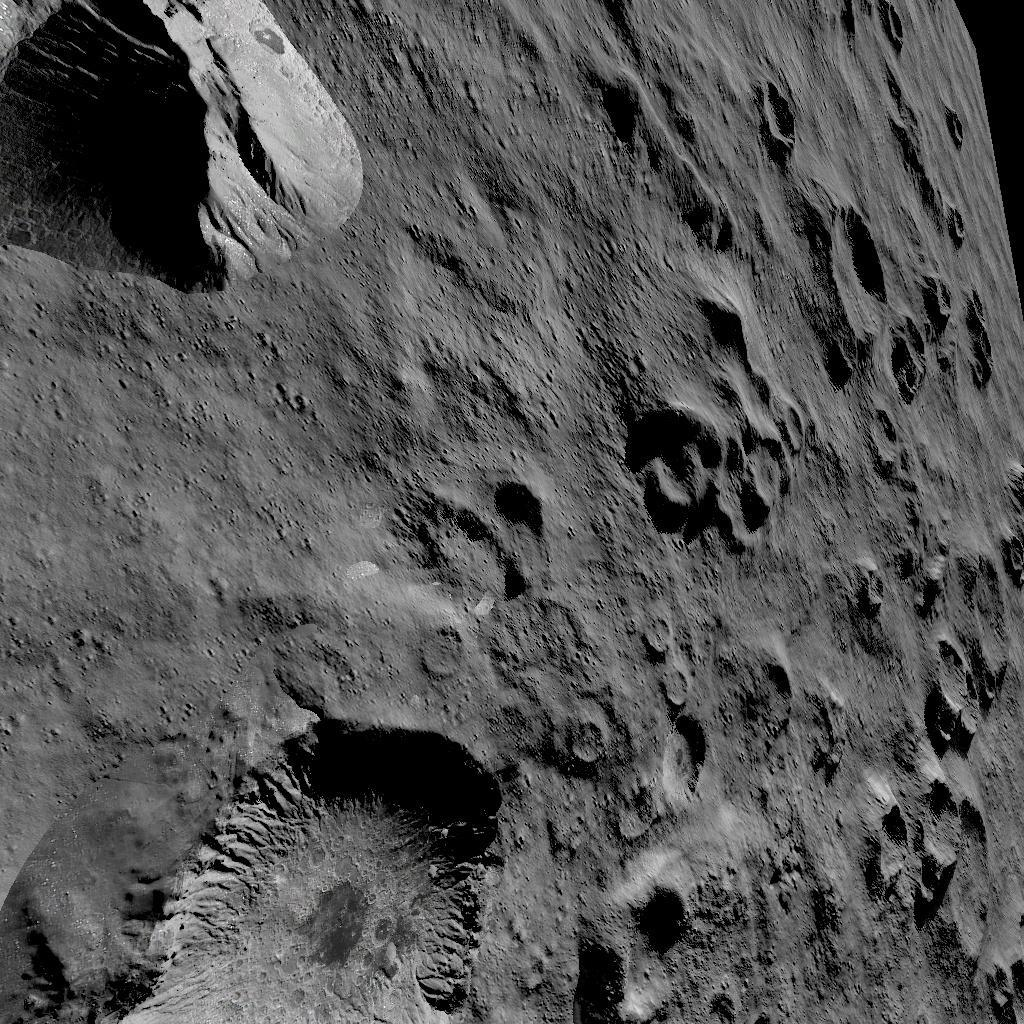Boulders: (0, 0, 384, 316)
Crater: (0, 714, 543, 1024), (627, 401, 829, 550), (854, 774, 1010, 956), (587, 866, 728, 1024), (403, 472, 565, 608), (651, 616, 728, 816), (908, 268, 1024, 400), (824, 190, 900, 386), (927, 640, 1024, 764), (761, 72, 818, 156), (867, 406, 922, 476), (423, 620, 480, 684), (862, 556, 908, 632), (571, 710, 618, 778), (873, 0, 920, 51), (942, 100, 984, 152), (948, 198, 988, 246)
Plan surface: (0, 326, 379, 704), (401, 2, 615, 449)
